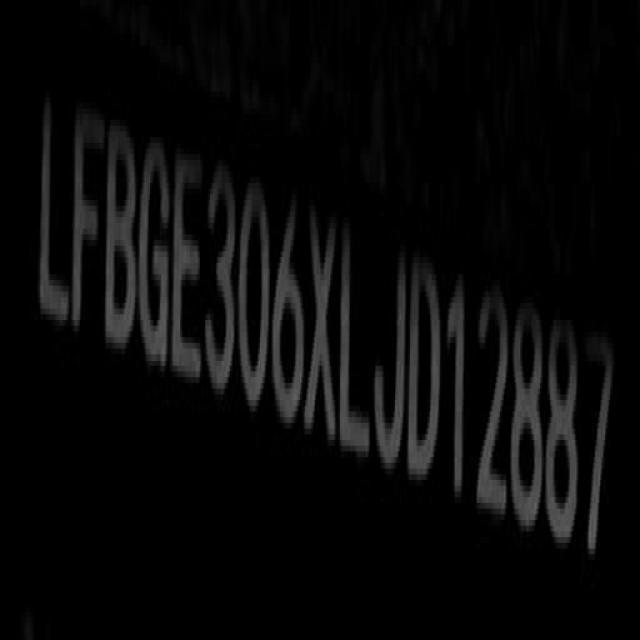0: (408, 251, 441, 494), (238, 174, 270, 420), (141, 129, 172, 374)
1: (448, 270, 473, 511)
2: (478, 288, 509, 528)
3: (206, 159, 238, 403)
6: (273, 187, 307, 436)
7: (588, 337, 618, 570)
8: (543, 315, 581, 552), (512, 298, 546, 537)
B: (104, 111, 140, 361)
E: (173, 149, 205, 394)
F: (70, 100, 104, 352)
J: (375, 237, 410, 482)
L: (36, 91, 72, 338), (343, 221, 371, 468)
X: (306, 197, 338, 453)
